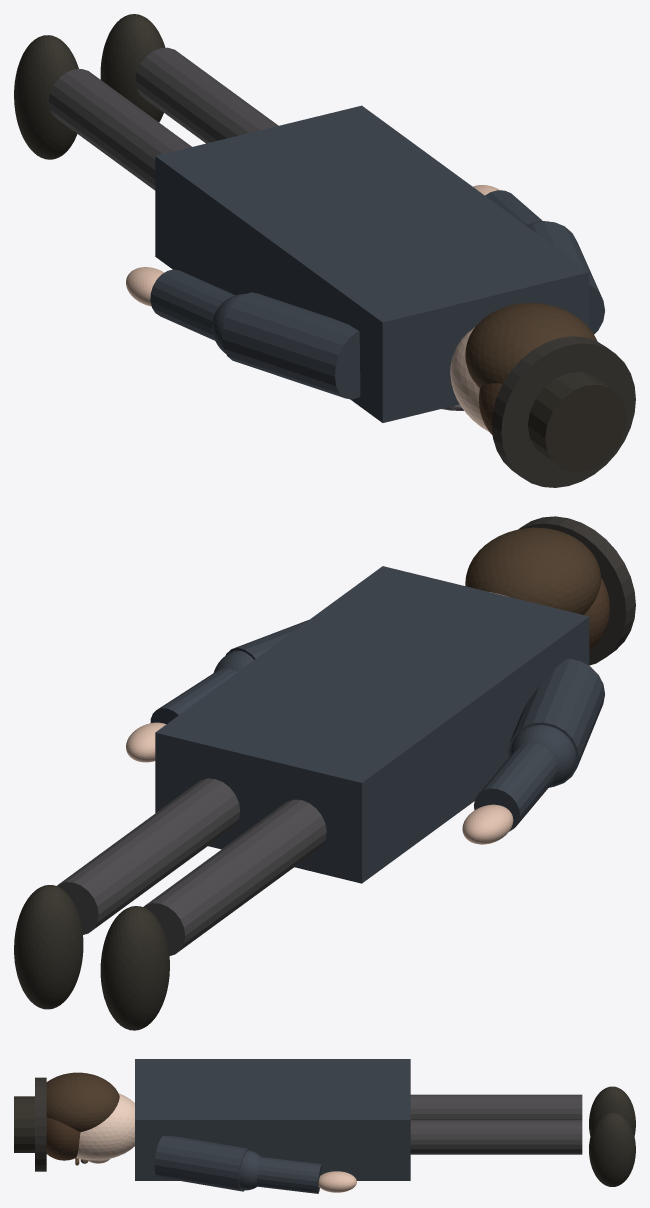
The model's file is victor.source.glb.
3 views of the same model, one above another, from view 1: azimuth 30°, elevation 25°; view 2: azimuth 150°, elevation 25°; view 3: azimuth 270°, elevation 25° (orthographic). The views are drawn at different scales.
Visible parts, largest first — view 1: LongCoat_4, SleeveUpper_7, HatBrim_23, Leg_0, HatCrown_24, Leg_2, HairBack_22, Boot_1, Boot_3, SleeveLower_9, SleeveUpper_11, Head_15 (+3 smaller); view 2: LongCoat_4, Leg_0, Leg_2, HairBack_22, Boot_1, Boot_3, SleeveUpper_7, HatBrim_23, SleeveLower_9, Elbow_8, Hand_10, SleeveLower_13 (+3 smaller); view 3: LongCoat_4, Leg_2, Leg_0, SleeveUpper_11, HairBack_22, Boot_3, Head_15, SleeveLower_13, Boot_1, HatCrown_24, HairCap_21, HatBrim_23 (+2 smaller).
Part boxes in pixels (box(x1,y1,x2,y2)): LongCoat_4: box(155, 105, 589, 422); SleeveUpper_7: box(222, 292, 360, 399); HatBrim_23: box(491, 336, 635, 487); Leg_0: box(48, 69, 191, 190); HatCrown_24: box(528, 372, 626, 471); Leg_2: box(135, 47, 278, 143); HairBack_22: box(465, 303, 597, 387); Boot_1: box(14, 35, 78, 159); Boot_3: box(100, 14, 165, 122); SleeveLower_9: box(150, 269, 235, 340); SleeveUpper_11: box(527, 221, 604, 334); Head_15: box(450, 327, 489, 431); LongCoat_4: box(155, 566, 589, 883); Leg_0: box(143, 799, 326, 955); Leg_2: box(57, 778, 240, 934); HairBack_22: box(465, 527, 601, 614); Boot_1: box(100, 906, 169, 1030); Boot_3: box(14, 885, 83, 1009); SleeveUpper_7: box(508, 659, 604, 786); HatBrim_23: box(518, 516, 635, 665); SleeveLower_9: box(474, 742, 558, 831); Elbow_8: box(510, 725, 576, 787); Hand_10: box(462, 804, 513, 844); SleeveLower_13: box(150, 668, 236, 724); LongCoat_4: box(135, 1059, 410, 1180); Leg_2: box(410, 1120, 582, 1154); Leg_0: box(410, 1094, 582, 1119); SleeveUpper_11: box(154, 1135, 251, 1191); HairBack_22: box(46, 1072, 119, 1132); Boot_3: box(589, 1112, 635, 1186); Head_15: box(76, 1093, 134, 1160); SleeveLower_13: box(257, 1157, 322, 1193); Boot_1: box(589, 1086, 635, 1136); HatCrown_24: box(14, 1096, 34, 1152); HairCap_21: box(46, 1117, 80, 1160); HatBrim_23: box(35, 1077, 46, 1171).
Size of the model in its own units: 0.78 by 0.315 by 1.85.
